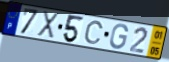2: (128, 26, 149, 55)
5: (61, 13, 85, 44)
7: (20, 7, 40, 36)
C: (83, 20, 105, 46)
G: (109, 23, 130, 50)
X: (35, 10, 60, 41)
